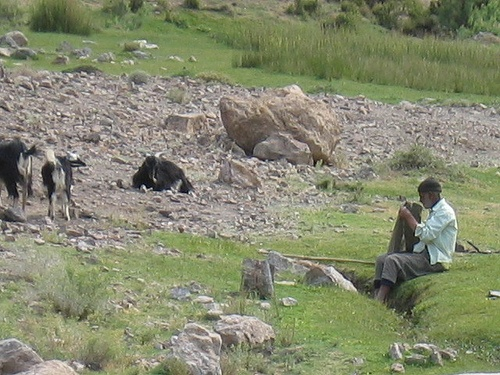head: (417, 178, 444, 210)
person: (373, 178, 456, 303)
